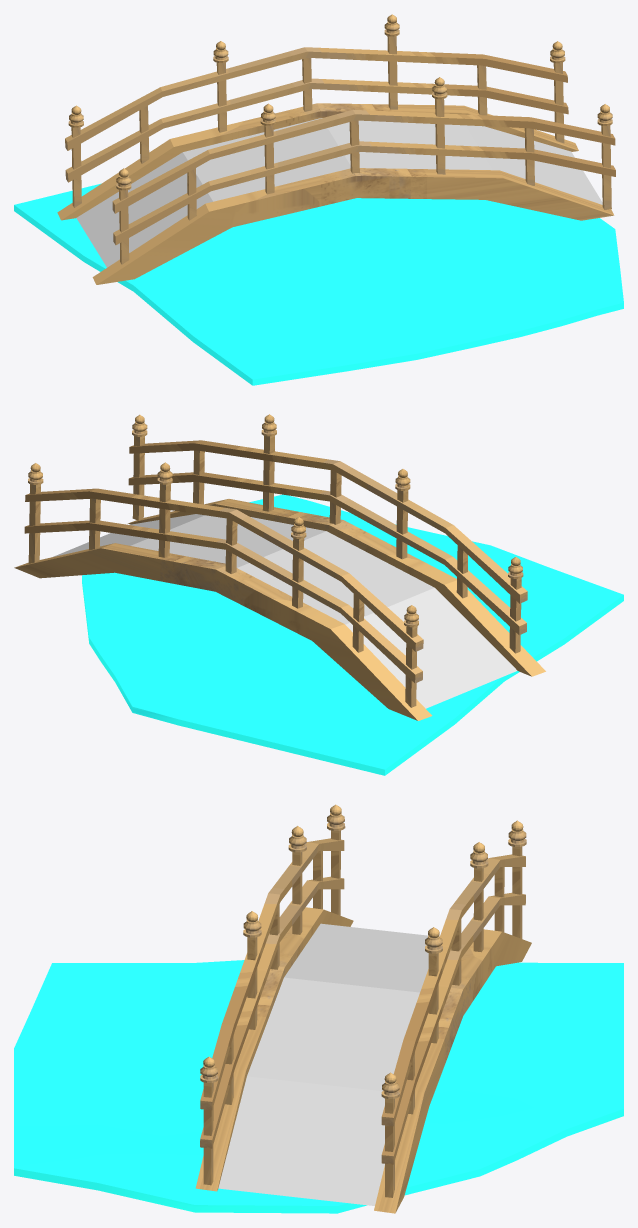
3 views of the same model, one above another, from view 1: azimuth 30°, elevation 25°; view 2: azimuth 150°, elevation 25°; view 3: azimuth 270°, elevation 25° (orthographic). The views are drawn at different scales.
Parts seen in each view (by area): view 1: Object_21; view 2: Object_21; view 3: Object_21.
Part boxes in pixels (left/top/right/bottom): Object_21: left=14, top=14, right=623, bottom=385; Object_21: left=14, top=414, right=623, bottom=775; Object_21: left=14, top=804, right=623, bottom=1213.
Bounding box in the file's own units: 8522 × 3049 × 7438.
Materials: 4 (2 with a texture image).
